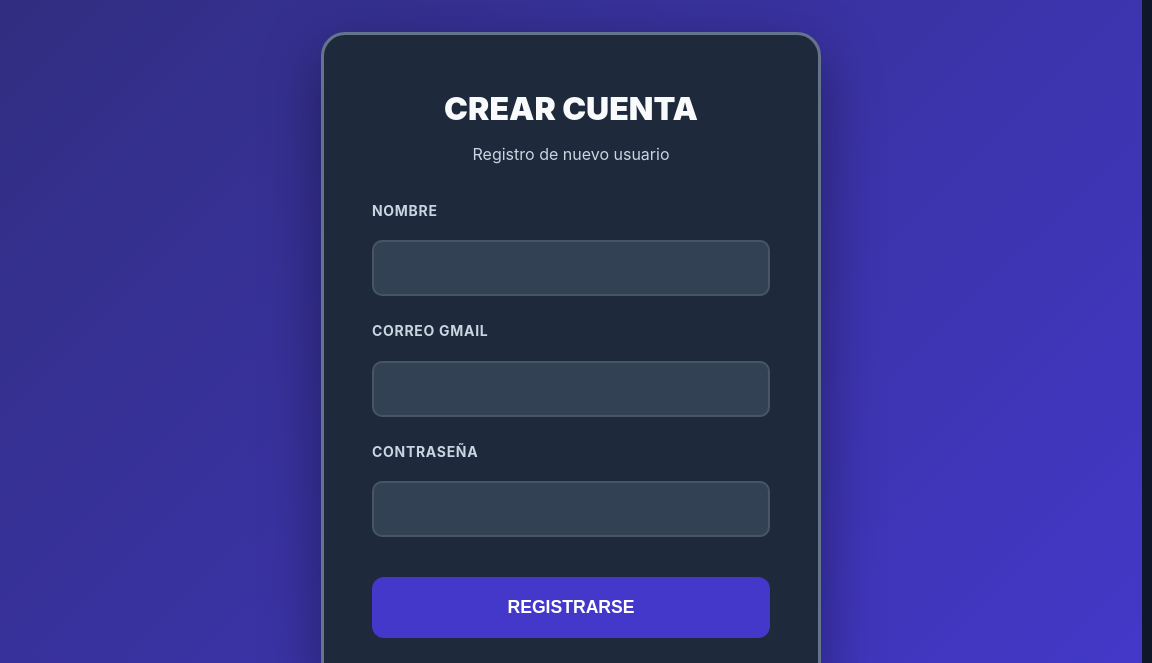
Test: Register Component › shows fallback error when registration fails without backend message
Type "Juan Pérez" into the field labelled "Nombre".
click(571, 268); type("Juan Pérez")  # box [372, 240, 770, 296]
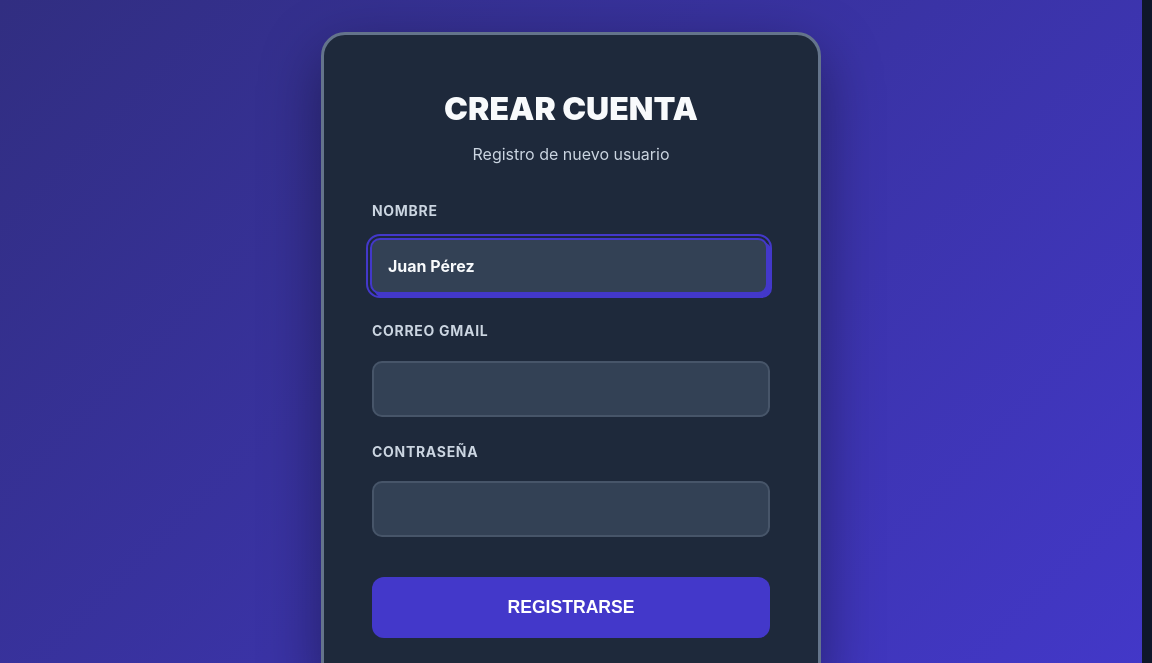
Type "juan@gmail.com" into the field labelled "Correo Gmail".
click(571, 389); type("juan@gmail.com")  # box [372, 361, 770, 417]
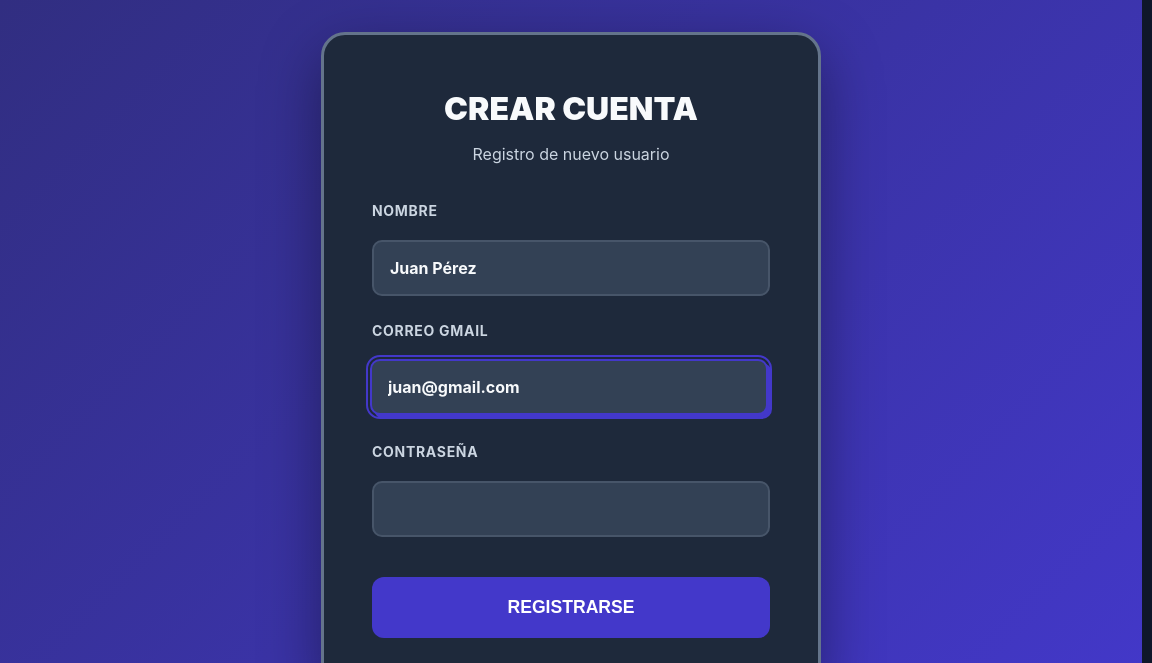
Type "Password123" into the password field labelled "Contraseña".
click(571, 509); type("Password123")  # box [372, 481, 770, 537]
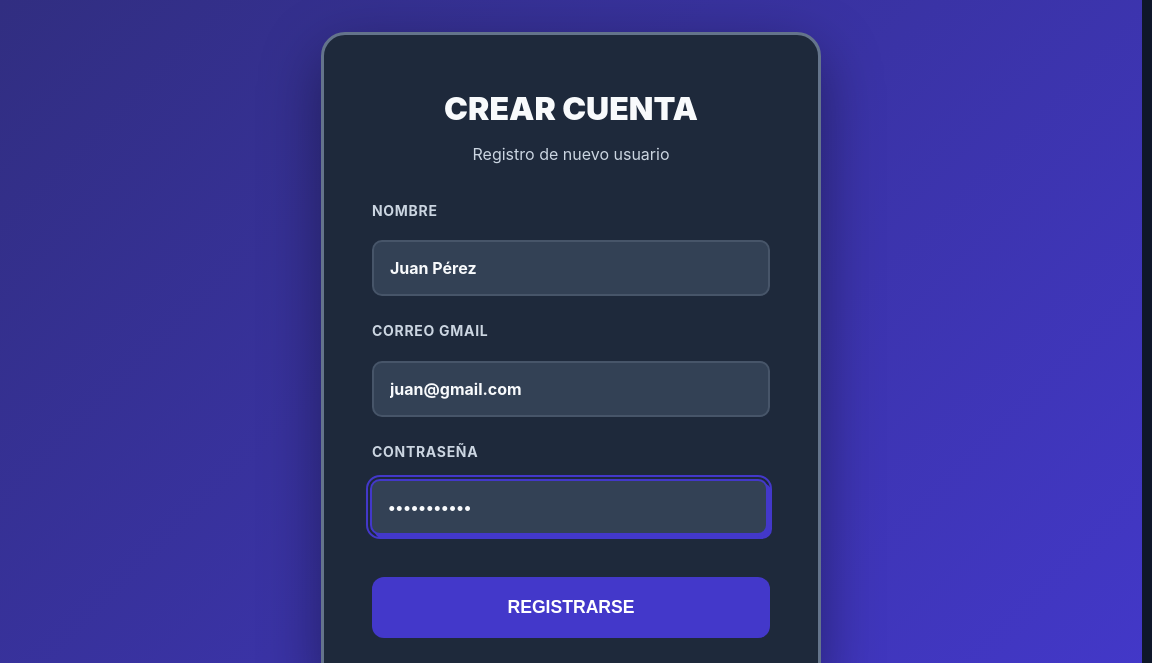
Click the button "Registrarse".
click(571, 608)  # box [372, 577, 770, 638]
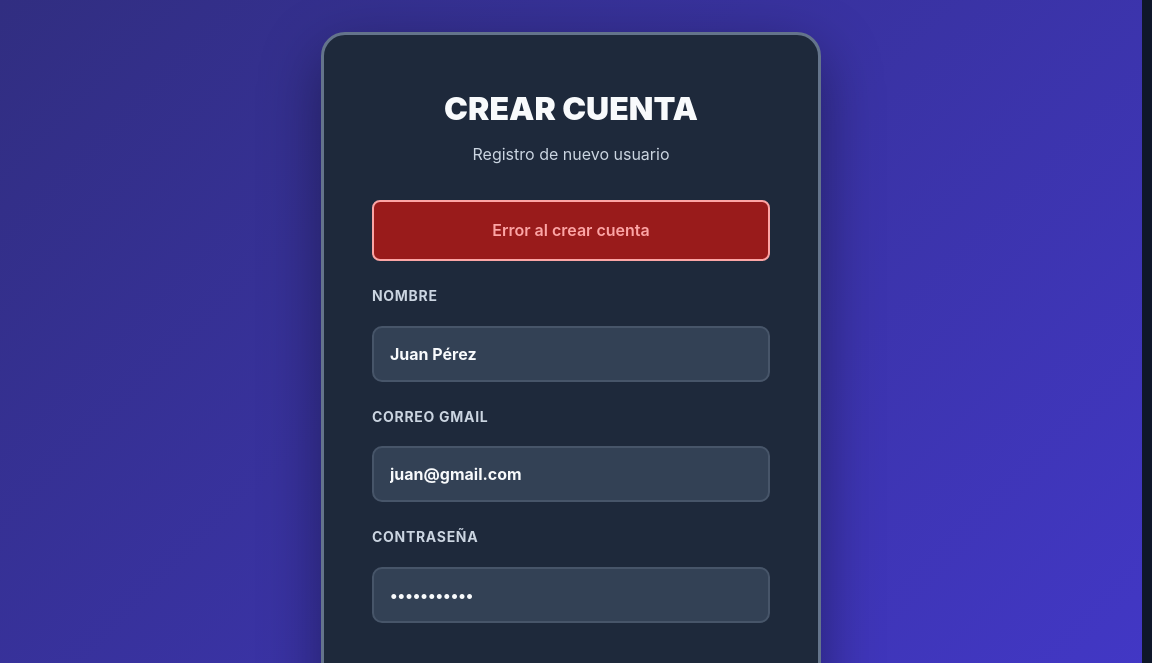
Result: the message reads "Error al crear cuenta" at [492, 220, 650, 240]
